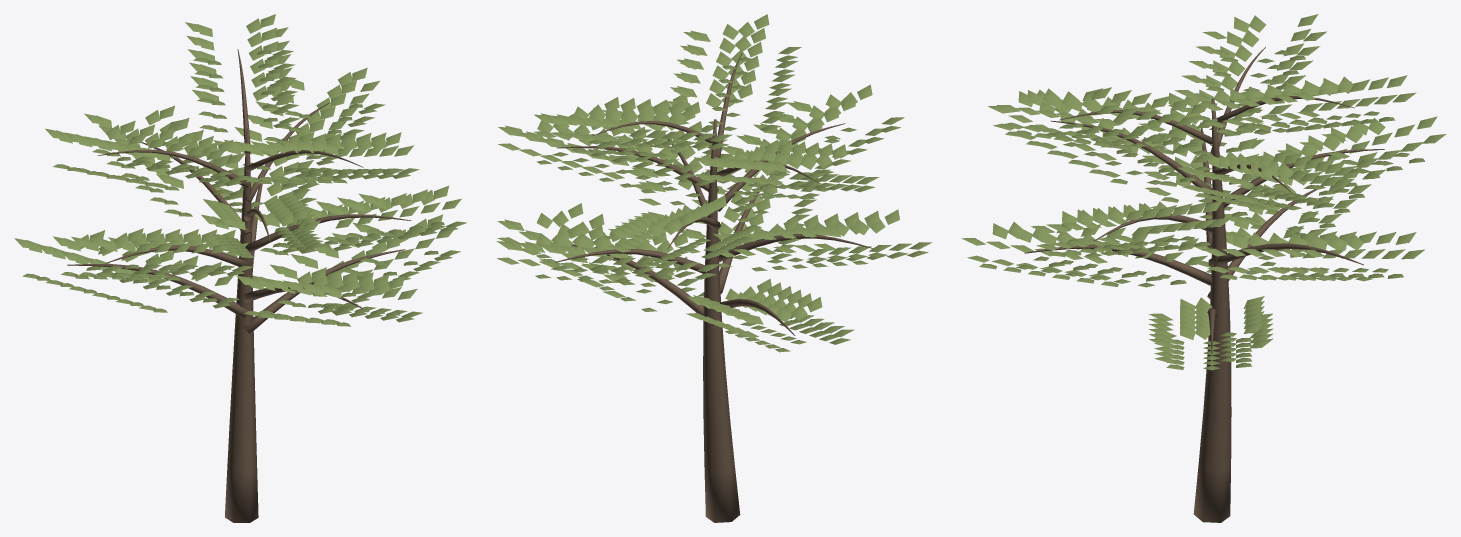
File: street-lod1.glb
3 views of the same model, side by side, from view 1: azimuth 30°, elevation 25°; view 2: azimuth 150°, elevation 25°; view 3: azimuth 270°, elevation 25° (orthographic). The views are drawn at different scales.
Visible parts, largest first — view 1: three dimensional leaves, rooted trunk and branch hierarchy; view 2: three dimensional leaves, rooted trunk and branch hierarchy; view 3: three dimensional leaves, rooted trunk and branch hierarchy.
Part boxes in pixels (bbox=[...]): three dimensional leaves: bbox=[14, 14, 467, 326]; rooted trunk and branch hierarchy: bbox=[67, 49, 411, 522]; three dimensional leaves: bbox=[496, 14, 932, 352]; rooted trunk and branch hierarchy: bbox=[555, 53, 872, 522]; three dimensional leaves: bbox=[961, 14, 1446, 370]; rooted trunk and branch hierarchy: bbox=[1024, 47, 1384, 522].
Size of the model in its own units: 6.39 by 6.35 by 6.09.
